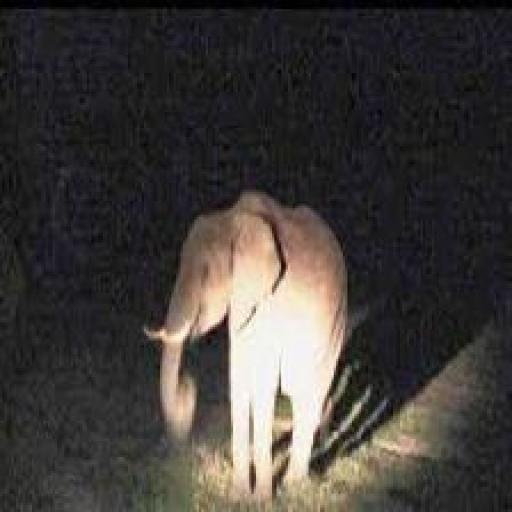Elephant: (144, 191, 346, 497)
